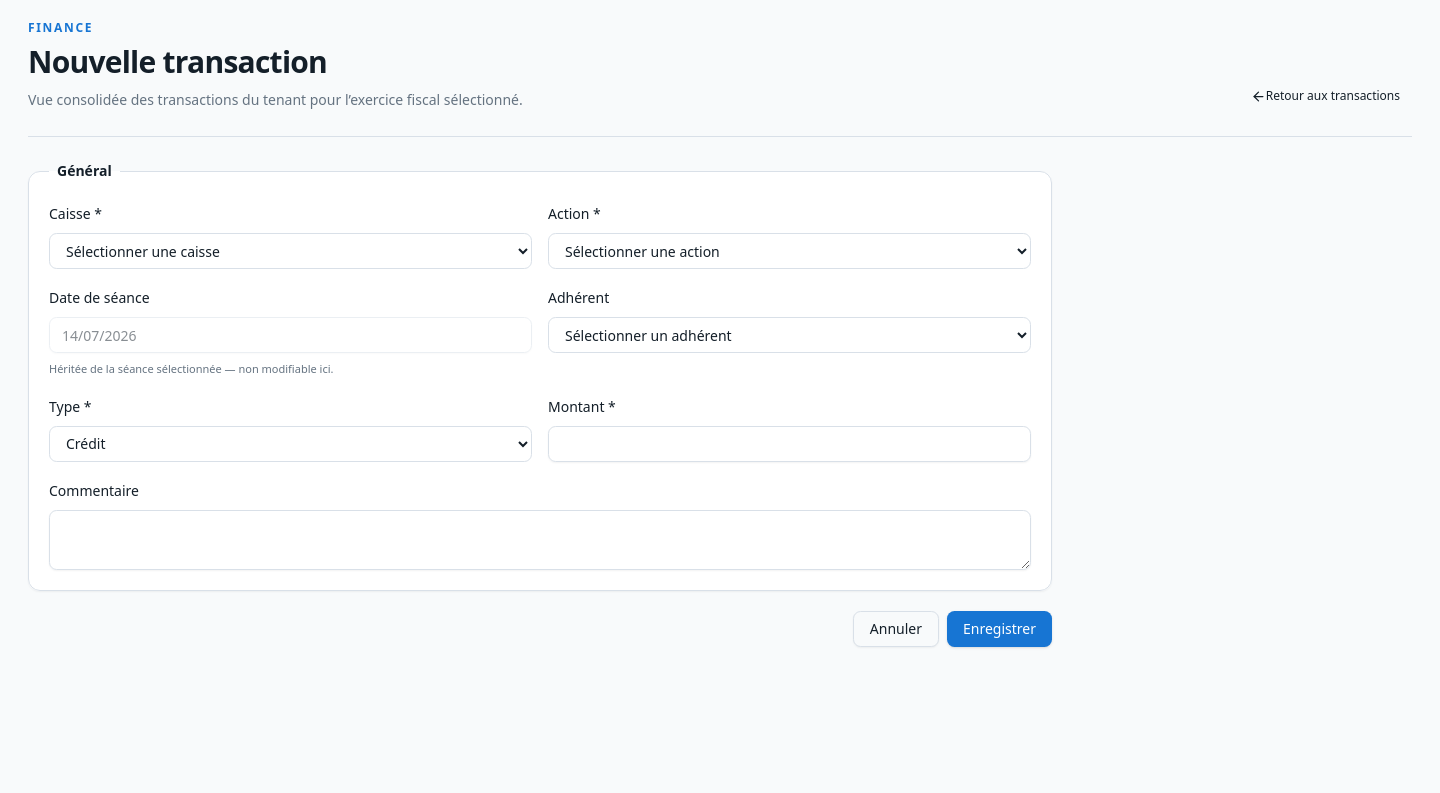
it: Finance → Transactions — REMBOURSEMENT (détermination automatique de la dette) › « Montant versé » supérieur au montant dû → refusé
Select "Transport" in the dropdown labelled "Caisse *". click: (290, 251)
box: [49,233,532,269]
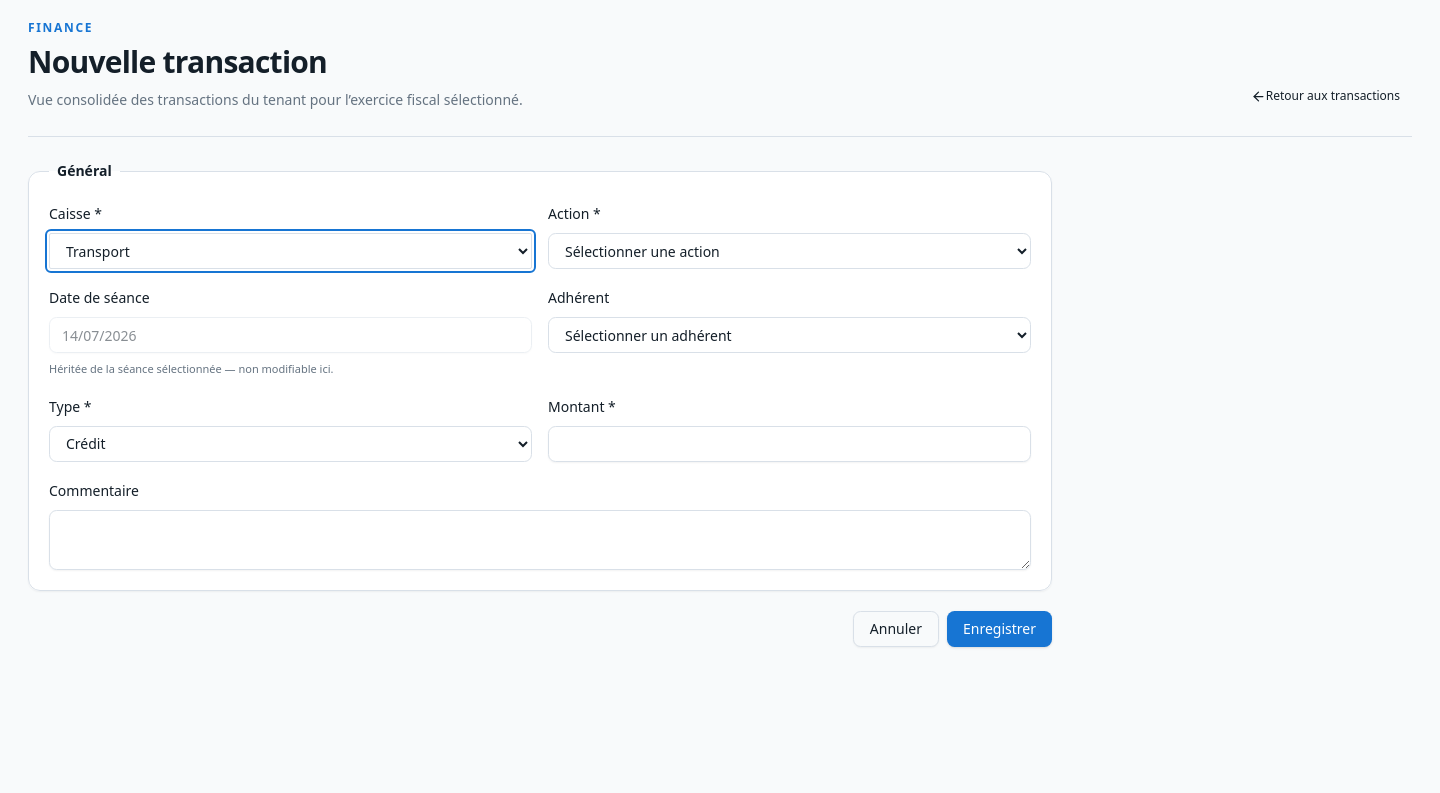
Select "Rembourser" in the dropdown labelled "Action *". click: (790, 251)
box: [548,233,1031,269]
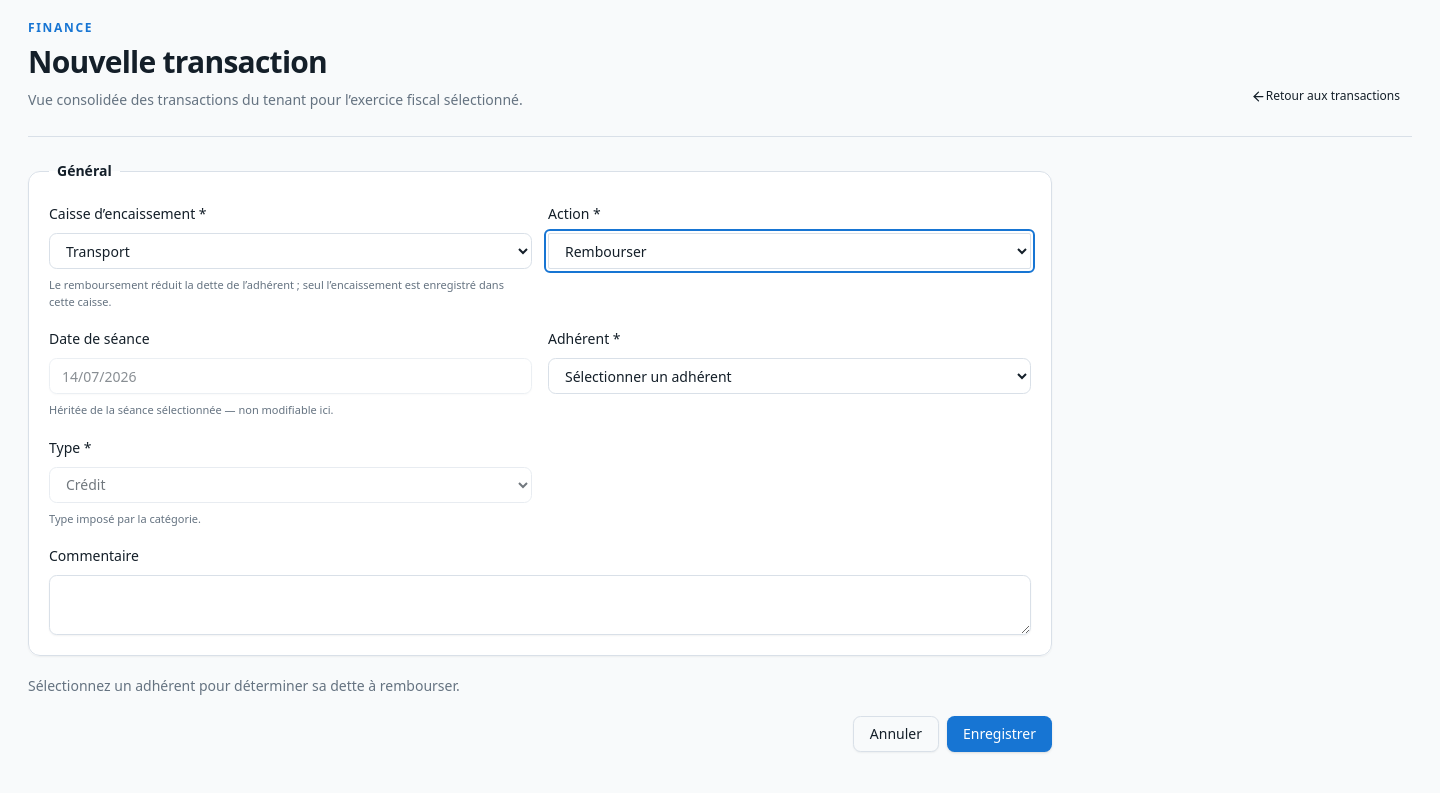
Select "Fatou Ndiaye" in the dropdown labelled "Adhérent *". click: (790, 376)
box: [548,358,1031,394]
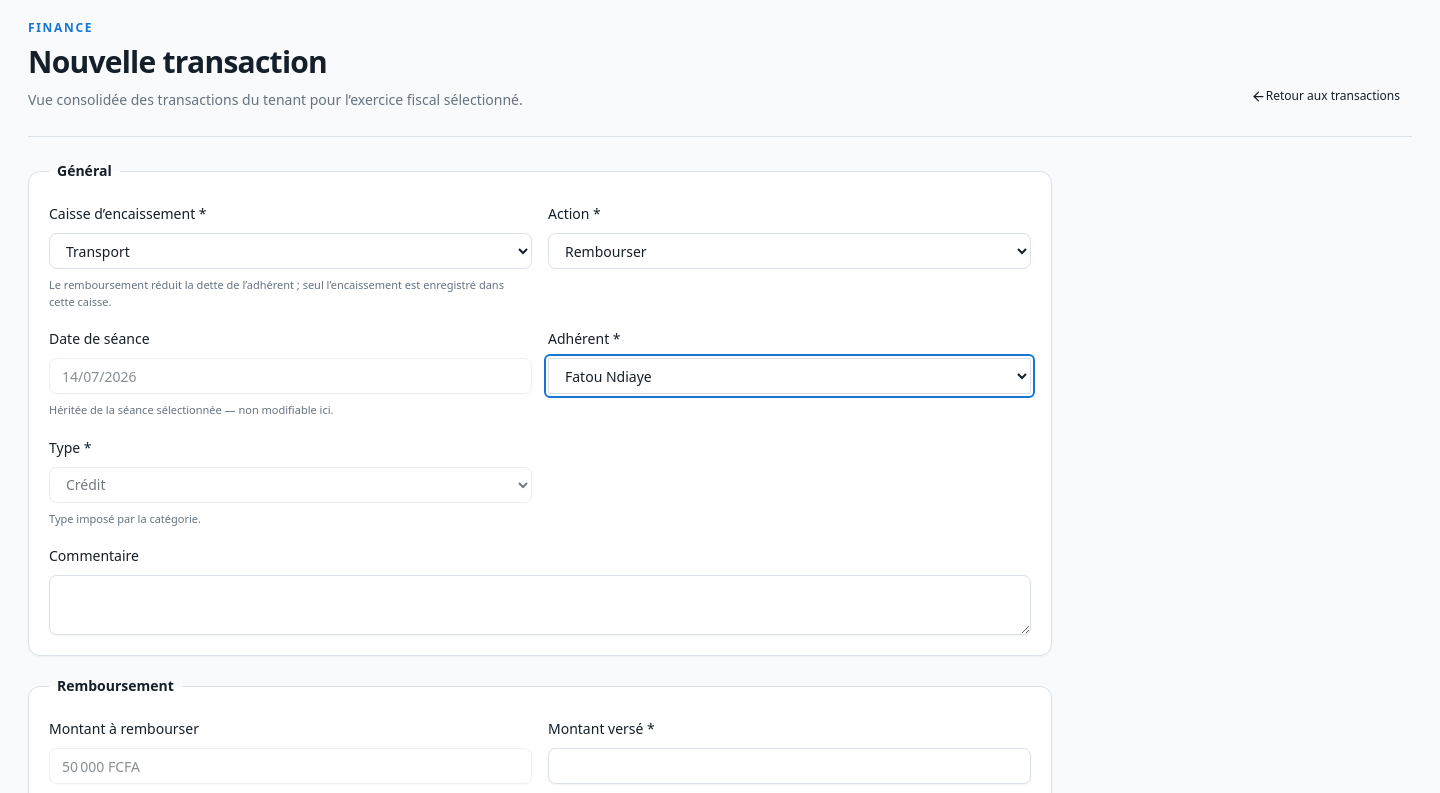
Type "90000" into the field labelled "Montant versé *". click: (790, 766)
box: [548,748,1031,784]
(page scrolled)
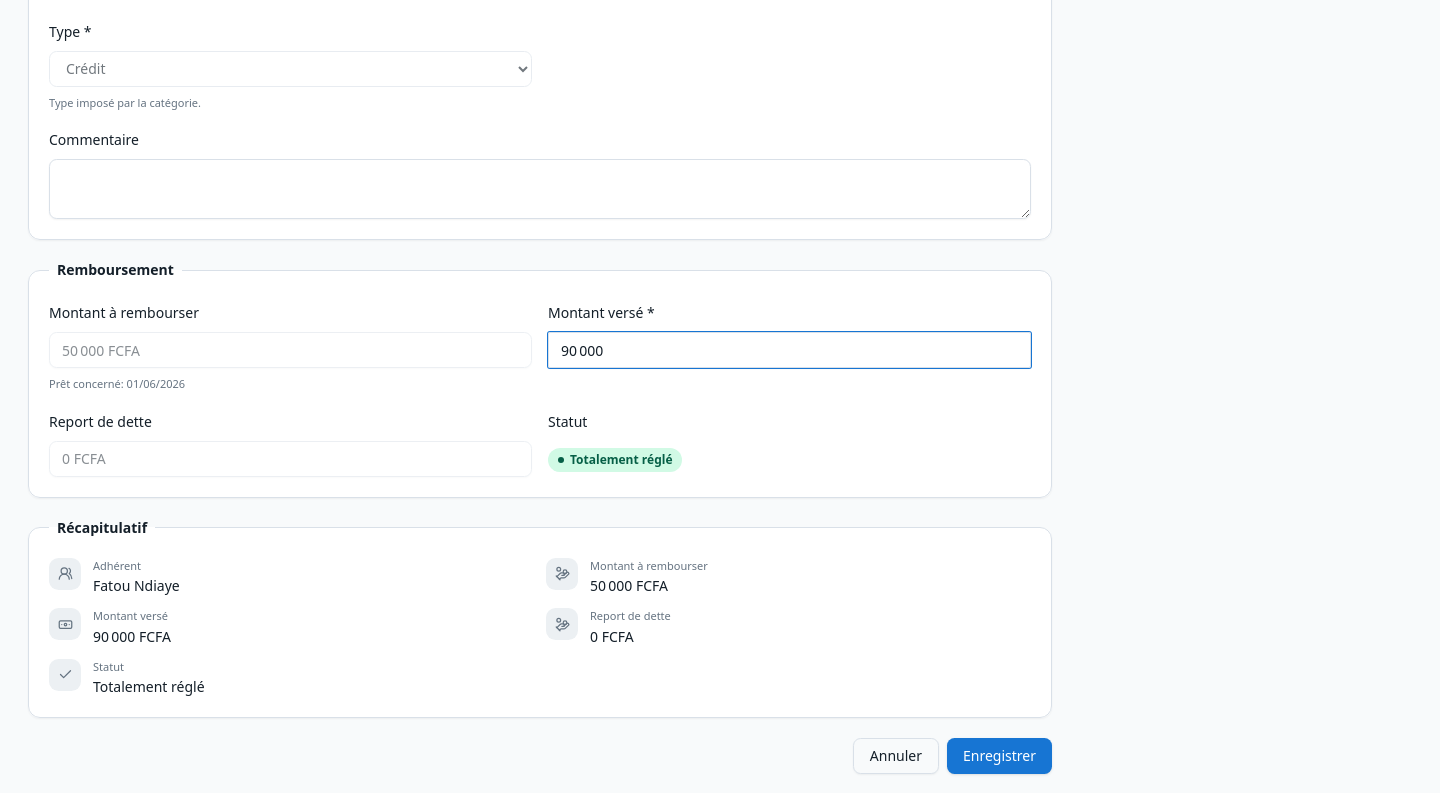
Click the button "Enregistrer". click: (1000, 756)
box: [947,738,1052,774]
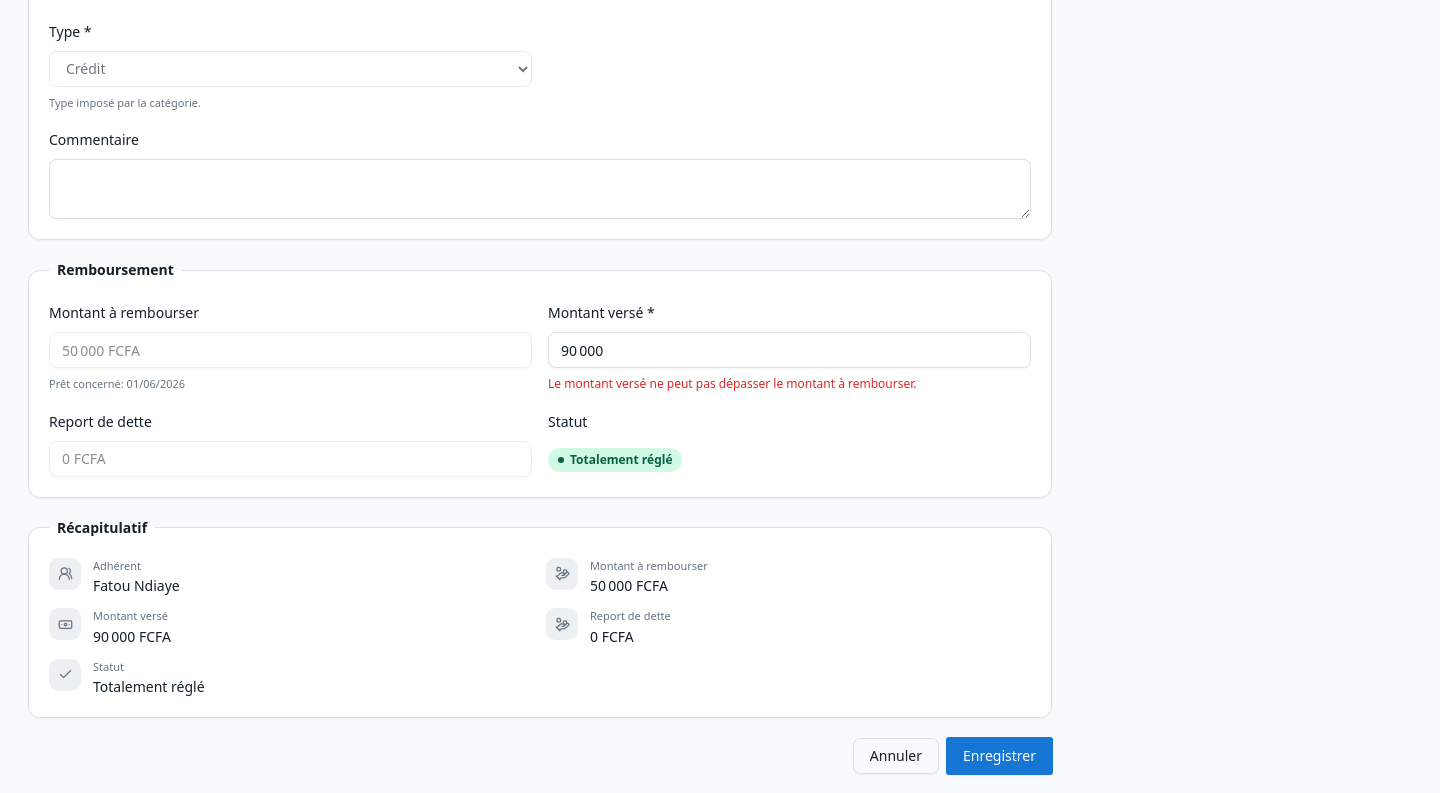
Expected: the text "ne peut pas dépasser le montant à rembourser" is shown, [548,375,916,392]
